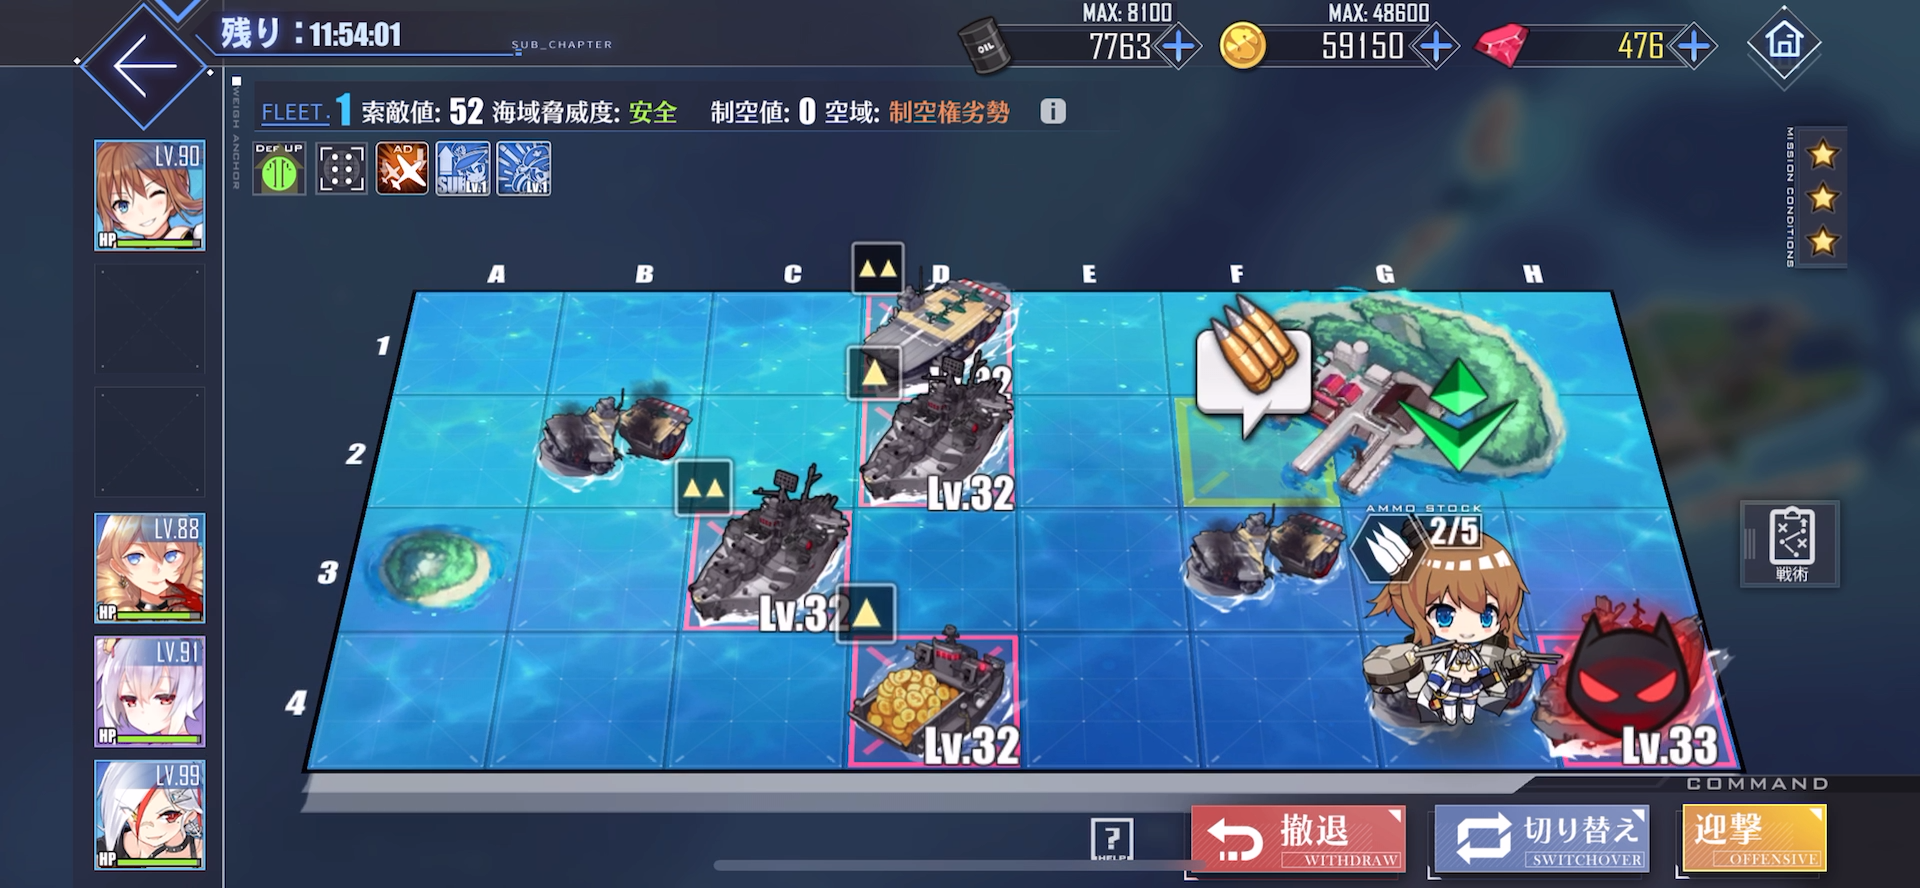boss: (1536, 598, 1716, 766)
